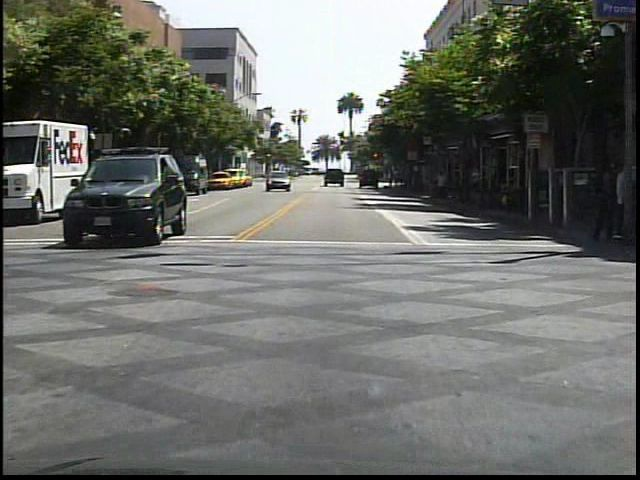person: (585, 153, 619, 244)
